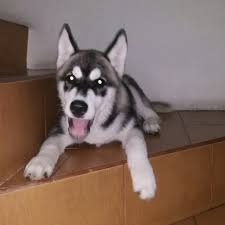Bulldog: (26, 17, 187, 206)
